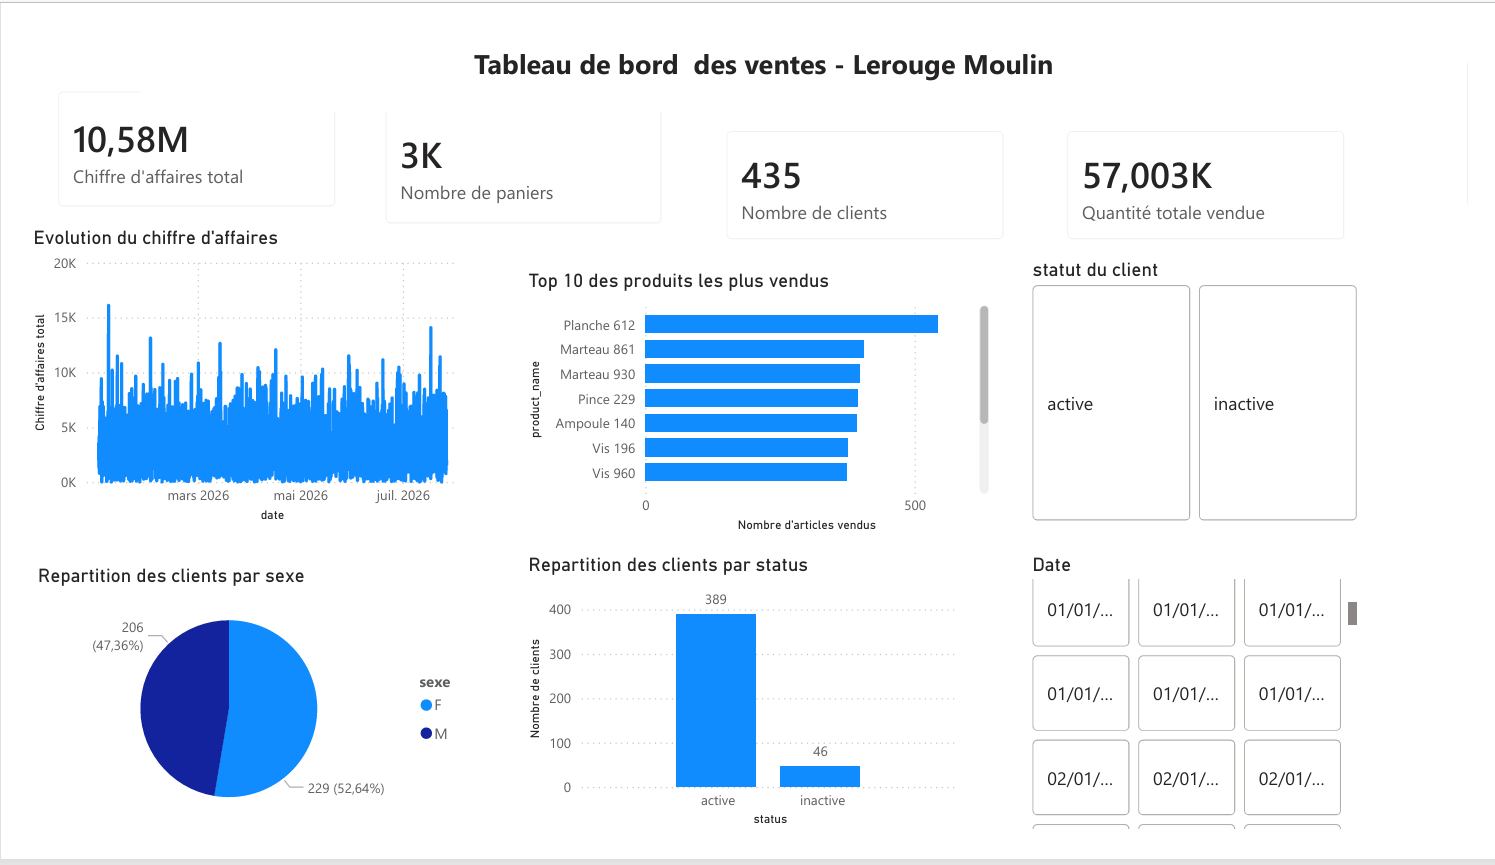

The page's visual inventory and layout, read from the dashboard file:
{"tool":"powerbi","page":{"name":"Page 1","canvas":[1280,720],"ordinal":0},"visuals":[{"type":"cardVisual","fields":{"Data":["client.CA Total"]},"box":[9.6,45.3,279.9,135.8],"z":0},{"type":"cardVisual","fields":{"Data":["client.Nombre de clients"]},"box":[603.8,79.6,279.9,130.4],"z":1},{"type":"cardVisual","fields":{"Data":["client.Quantité vendue"]},"box":[907,79.6,279.9,130.4],"z":2},{"type":"cardVisual","fields":{"Data":["client.Nombre de paniers"]},"box":[300.5,57.6,279.9,138.6],"z":3},{"type":"lineChart","title":"Evolution du chiffre d''affaires","fields":{"Y":["client.CA Total"],"Category":["panier.date"]},"box":[0,181.1,400.7,267.6],"z":4},{"type":"clusteredBarChart","title":"Top 10 des produits les plus vendus","fields":{"Category":["produit.product_name"],"Y":["Sum(ligne_panier.amount)"]},"box":[440.5,219.6,418.5,238.8],"z":5},{"type":"pieChart","title":"Repartition des clients par sexe","fields":{"Category":["client.sexe"],"Y":["client.Nombre de clients"]},"box":[4.1,481.6,396.6,238.8],"z":6},{"type":"columnChart","title":"Repartition des clients par status","fields":{"Category":["client.status"],"Y":["client.Nombre de clients"]},"box":[440.5,472,391.1,248.4],"z":7},{"type":"advancedSlicerVisual","title":"statut du client","fields":{"Values":["client.status"]},"box":[887.8,209.9,299.1,238.8],"z":9},{"type":"advancedSlicerVisual","title":"Date","fields":{"Values":["panier.date"]},"box":[888,472,299,248],"z":10},{"type":"textbox","box":[100.2,15.1,1107.4,64.5],"z":11}]}

Visuals, with their boxes in screenshot pixels (x1, y1, x2, y2), scaled from the page's 1280x720 canvas onto the 1495x865 screenshot:
cardVisual - client.CA Total: {"left": 11, "top": 54, "right": 338, "bottom": 218}
cardVisual - client.Nombre de clients: {"left": 705, "top": 96, "right": 1032, "bottom": 252}
cardVisual - client.Quantité vendue: {"left": 1059, "top": 96, "right": 1386, "bottom": 252}
cardVisual - client.Nombre de paniers: {"left": 351, "top": 69, "right": 678, "bottom": 236}
"Evolution du chiffre d''affaires" lineChart: {"left": 0, "top": 218, "right": 468, "bottom": 539}
"Top 10 des produits les plus vendus" clusteredBarChart: {"left": 514, "top": 264, "right": 1003, "bottom": 551}
"Repartition des clients par sexe" pieChart: {"left": 5, "top": 579, "right": 468, "bottom": 864}
"Repartition des clients par status" columnChart: {"left": 514, "top": 567, "right": 971, "bottom": 864}
"statut du client" advancedSlicerVisual: {"left": 1037, "top": 252, "right": 1386, "bottom": 539}
"Date" advancedSlicerVisual: {"left": 1037, "top": 567, "right": 1386, "bottom": 864}
textbox: {"left": 117, "top": 18, "right": 1410, "bottom": 96}
